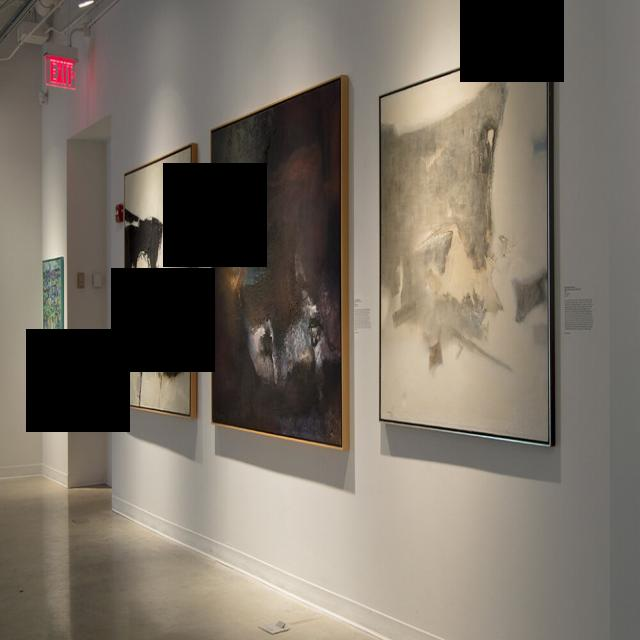Tablo: (380, 40, 549, 444), (211, 77, 342, 448), (125, 145, 191, 416), (43, 258, 62, 334)
